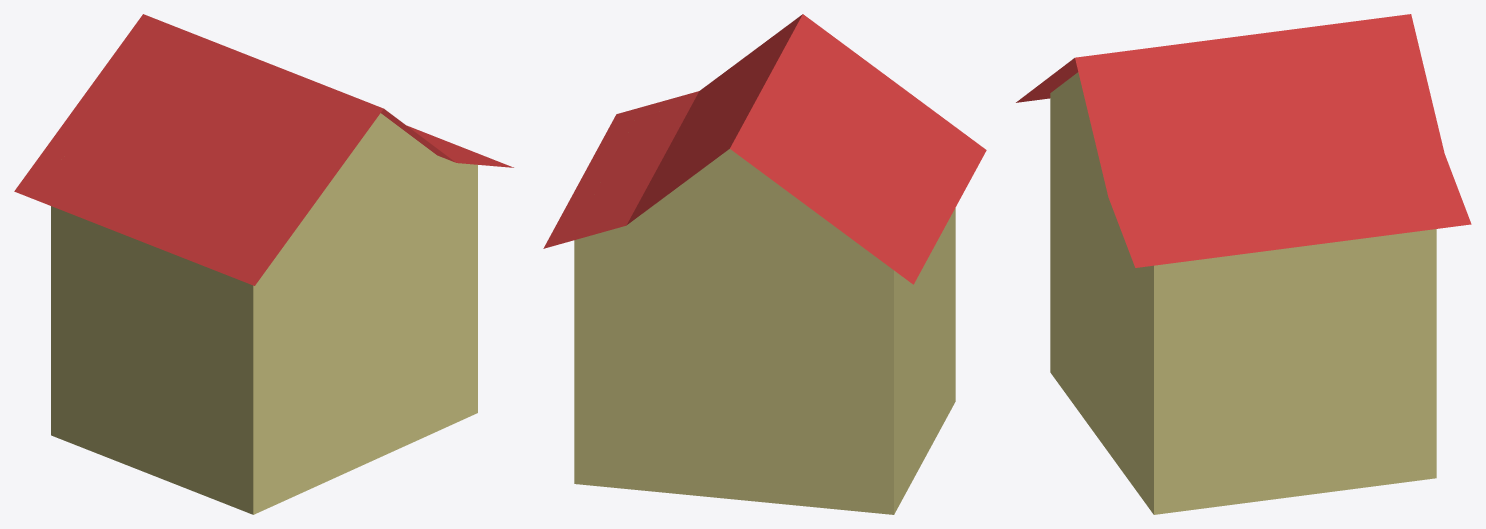
3 views of the same model, side by side, from view 1: azimuth 30°, elevation 25°; view 2: azimuth 150°, elevation 25°; view 3: azimuth 270°, elevation 25° (orthographic). The views are drawn at different scales.
Size of the model in its own units: 13.23 by 12.22 by 11.49.
